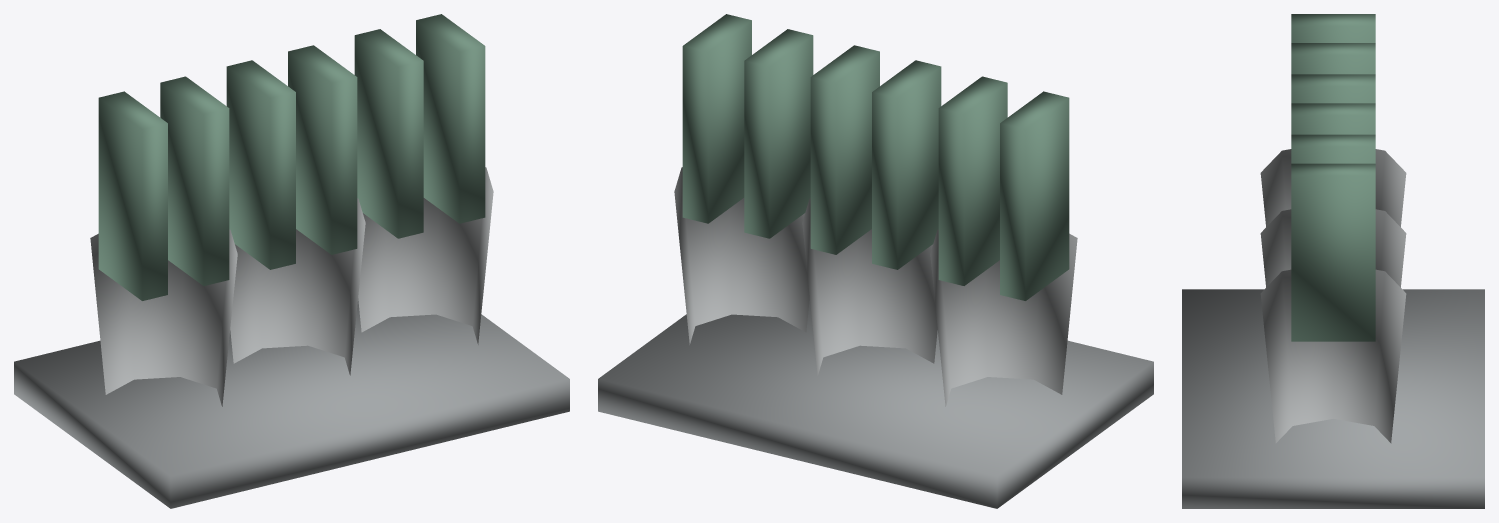
File: standing_floral_display__squat.glb
3 views of the same model, side by side, from view 1: azimuth 30°, elevation 25°; view 2: azimuth 150°, elevation 25°; view 3: azimuth 270°, elevation 25° (orthographic). The views are drawn at different scales.
Parts seen in each view (by area): view 1: world; view 2: world; view 3: world.
Part boxes in pixels (x1,y1,x2,y2): world: [14, 14, 569, 508]; world: [598, 14, 1153, 508]; world: [1182, 14, 1484, 508].
Bounding box in the file's own units: 0.858 × 0.6804 × 0.5832.
